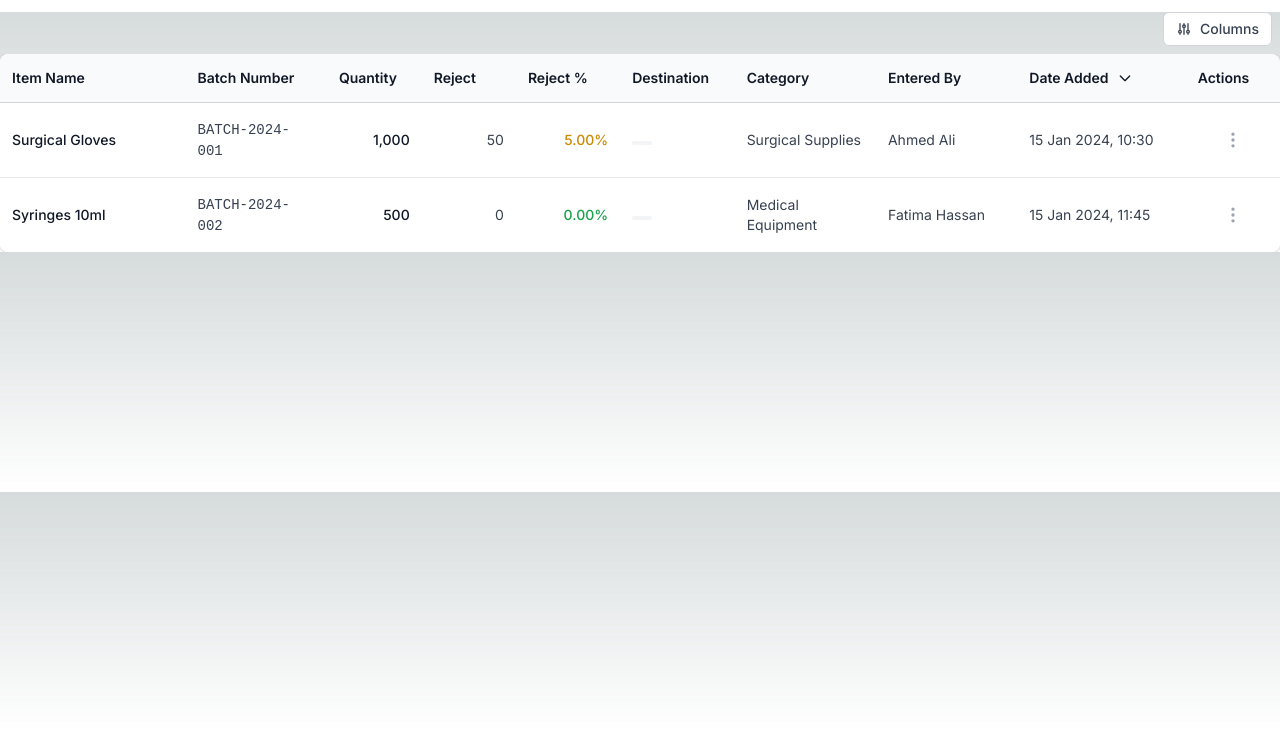
Test: InventoryTable › opens actions dropdown when button is clicked
Click the button named "Actions menu" in the row of "Surgical Gloves": (1233, 140) x1=1219 y1=126 x2=1247 y2=154
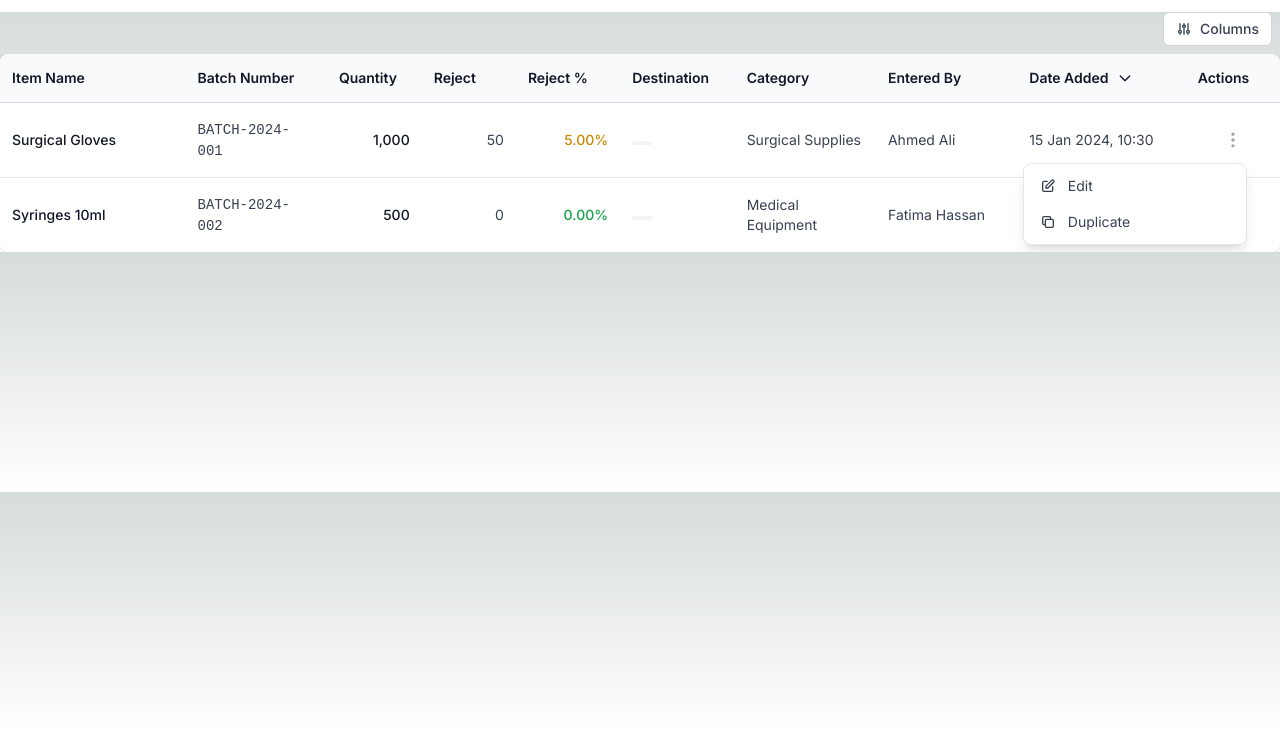
Check: the menu item "Edit" is shown, box x1=1024 y1=168 x2=1246 y2=204
Check: the menu item "Duplicate" is shown, box x1=1024 y1=204 x2=1246 y2=240
